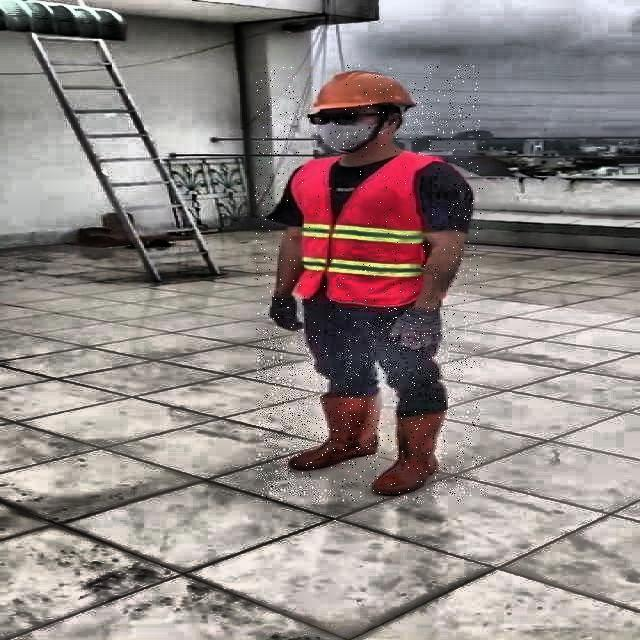safety_helmet: (300, 66, 418, 112)
safety_jacket: (283, 150, 453, 307)
